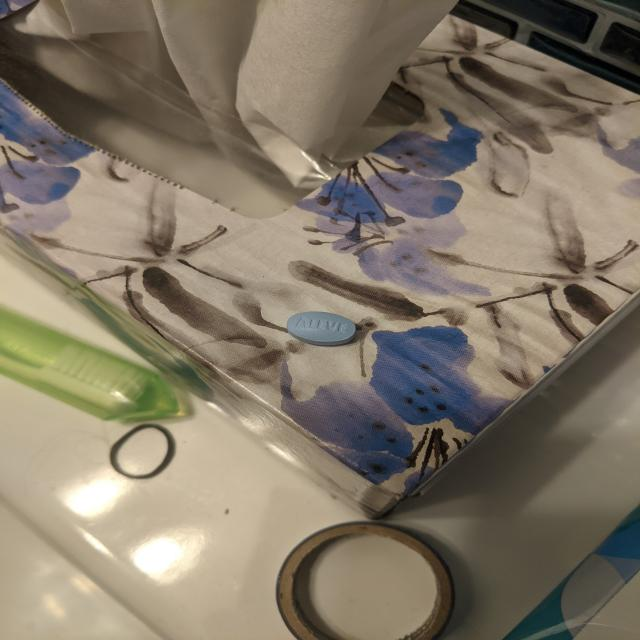non-organic waste: (286, 311, 356, 346)
